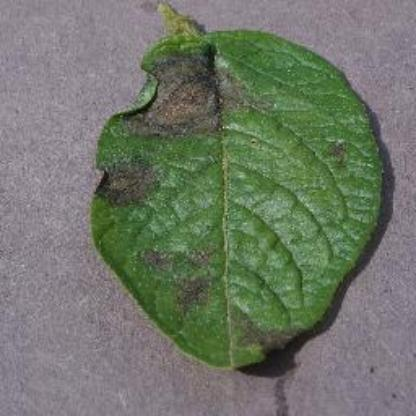Late-Blight: (87, 8, 387, 372)
